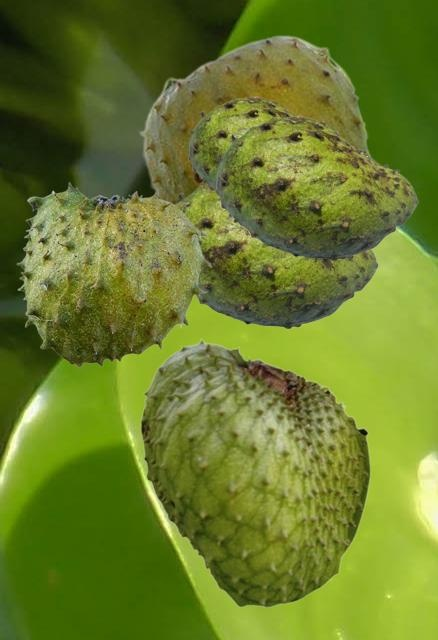guyabano: (140, 337, 370, 607), (138, 34, 373, 203), (16, 181, 211, 366), (214, 115, 417, 260), (178, 184, 377, 328), (187, 96, 293, 190)
